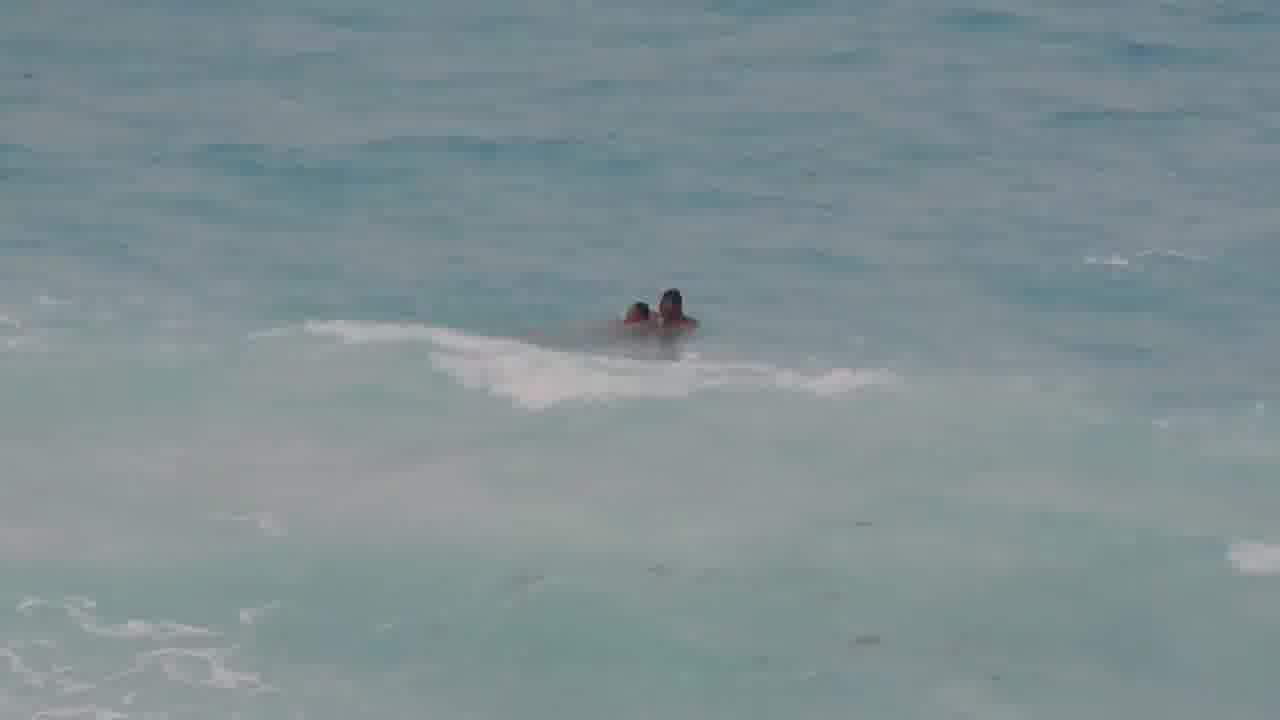human: (659, 283, 693, 331), (618, 298, 651, 324)
